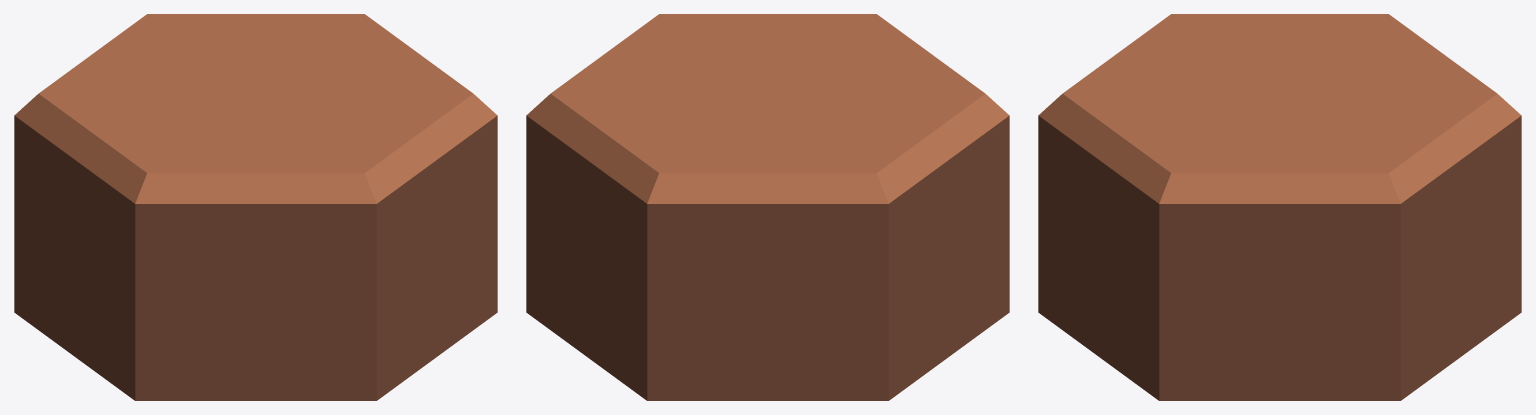
The model's file is Gobi.fbx.
3 views of the same model, side by side, from view 1: azimuth 30°, elevation 25°; view 2: azimuth 150°, elevation 25°; view 3: azimuth 270°, elevation 25° (orthographic).
Parts seen in each view (by area): view 1: Gobi; view 2: Gobi; view 3: Gobi.
Boxes of the visible parts, x1,y1,x2,y2 form: Gobi: [14, 14, 497, 400]; Gobi: [526, 14, 1009, 400]; Gobi: [1038, 14, 1521, 400].
Size of the model in its own units: 1732 by 1000 by 2000.
